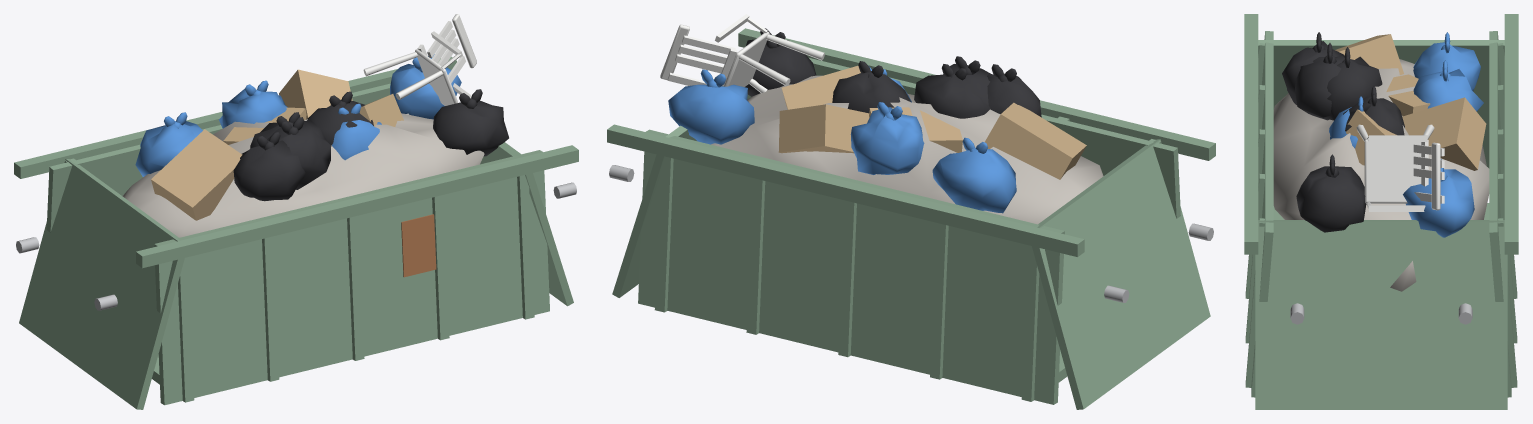
The model's file is skip_full.fbx.
3 views of the same model, side by side, from view 1: azimuth 30°, elevation 25°; view 2: azimuth 150°, elevation 25°; view 3: azimuth 270°, elevation 25° (orthographic). The views are drawn at different scales.
Parts seen in each view (by area): view 1: skip_full; view 2: skip_full; view 3: skip_full.
Part boxes in pixels (box(x1,y1,x2,y2)): skip_full: box(14, 14, 578, 409); skip_full: box(607, 14, 1215, 409); skip_full: box(1244, 14, 1518, 409).
Bounding box in the file's own units: 4.2 × 2.08 × 1.96.
